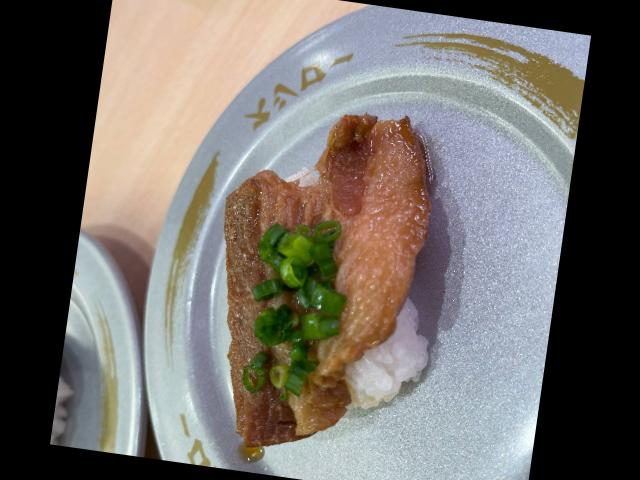janwhite: (133, 26, 582, 480), (49, 219, 174, 458)
